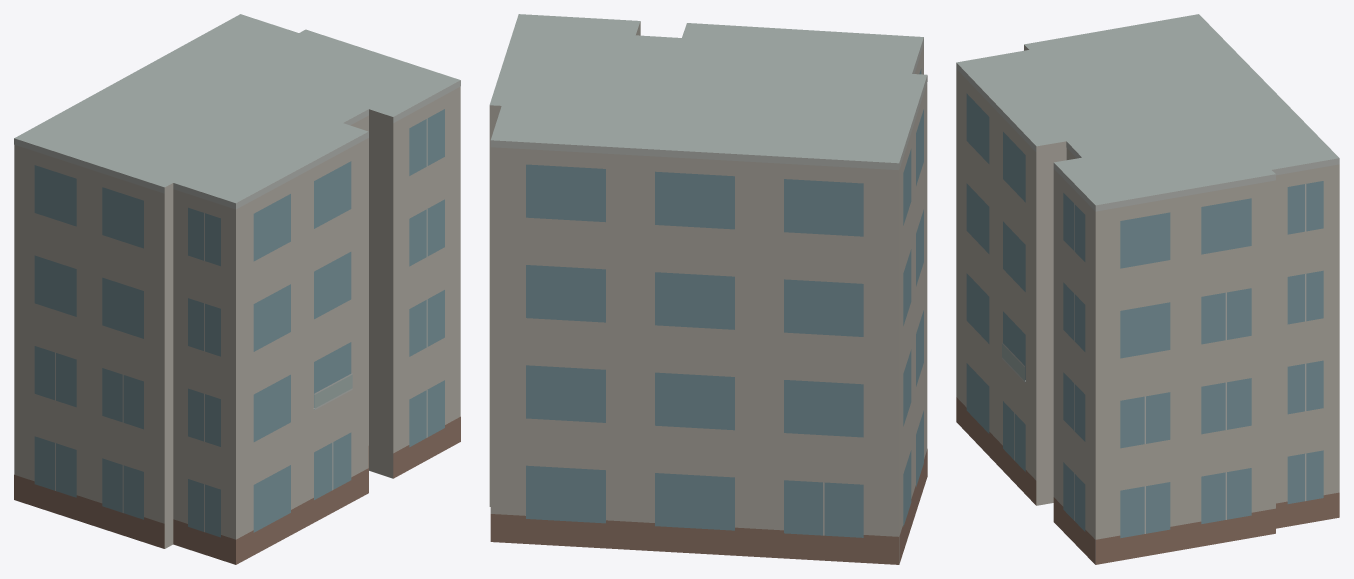
The model's file is survey-upis-32852098.glb.
3 renders of one model, left to right at view 1: azimuth 30°, elevation 25°; view 2: azimuth 150°, elevation 25°; view 3: azimuth 270°, elevation 25°, orthographic. The views are drawn at different scales.
Parts seen in each view (by area): view 1: survey-upis-32852098.tmp; view 2: survey-upis-32852098.tmp; view 3: survey-upis-32852098.tmp.
Part boxes in pixels (x1,y1,x2,y2): survey-upis-32852098.tmp: (14, 14, 460, 564); survey-upis-32852098.tmp: (489, 14, 927, 564); survey-upis-32852098.tmp: (956, 14, 1339, 564).
Size of the model in its own units: 16.11 by 14.1 by 13.64.
